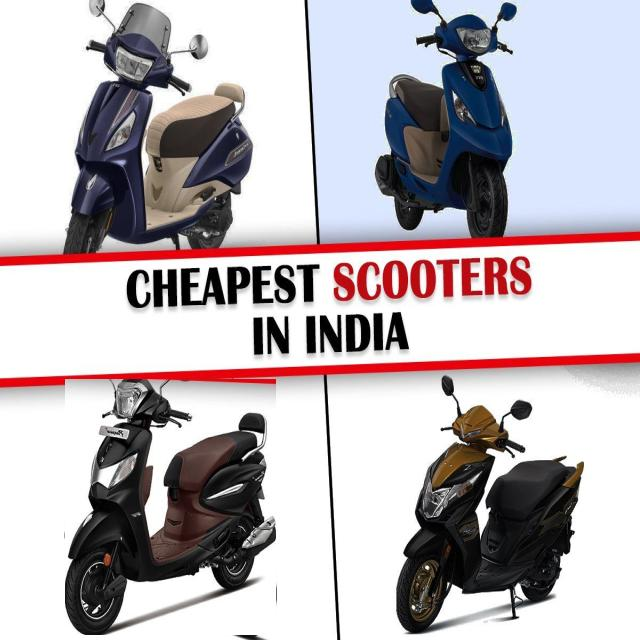motorcycle: (65, 380, 276, 635), (396, 375, 584, 632), (64, 3, 252, 252), (376, 0, 516, 238)
